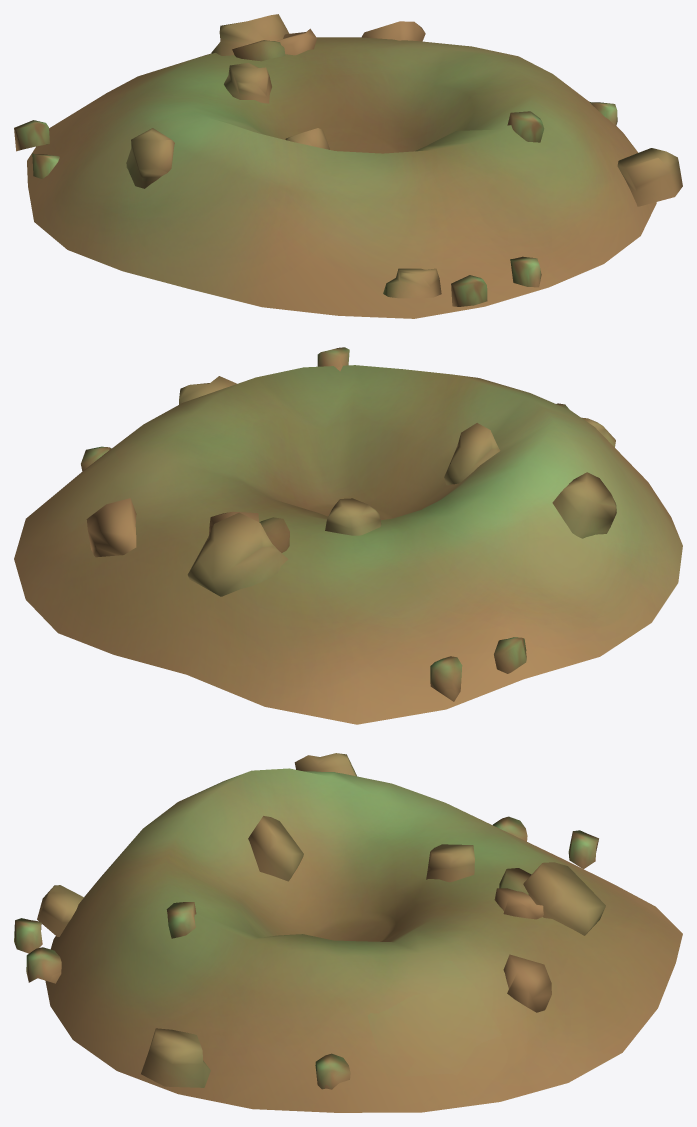
The model's file is SM_Env_PlantArea.fbx.
The picture shows the model from 3 angles, top to bottom: view 1: azimuth 30°, elevation 25°; view 2: azimuth 150°, elevation 25°; view 3: azimuth 270°, elevation 25°; orthographic projection. The views are drawn at different scales.
Parts seen in each view (by area): view 1: SM_Env_PlantArea; view 2: SM_Env_PlantArea; view 3: SM_Env_PlantArea.
Boxes of the visible parts, x1,y1,x2,y2 form: SM_Env_PlantArea: (14,14,682,318); SM_Env_PlantArea: (14,347,682,724); SM_Env_PlantArea: (14,753,682,1112).
Bounding box in the file's own units: 60.29 × 14.39 × 61.57.
